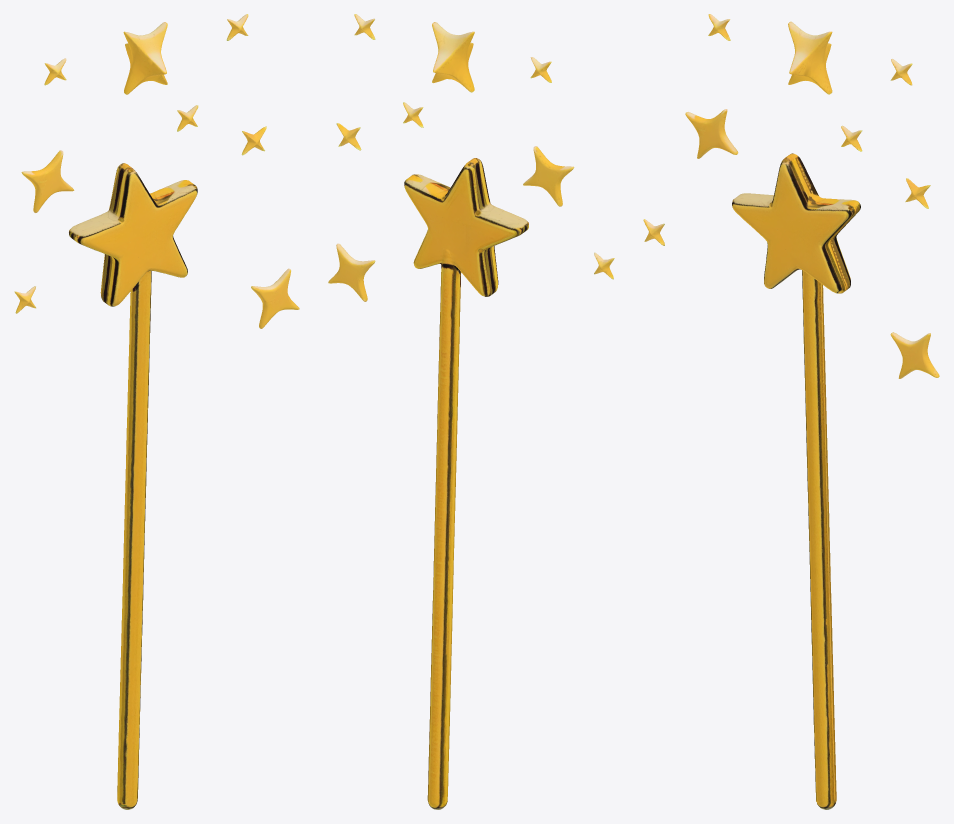
File: Bacchetta magica.glb
3 renders of one model, left to right at view 1: azimuth 30°, elevation 25°; view 2: azimuth 150°, elevation 25°; view 3: azimuth 330°, elevation 25°, orthographic. The views are drawn at different scales.
Bounding box in the file's own units: 0.7242 × 1.9 × 0.1883.
1 material, 1 textured.
